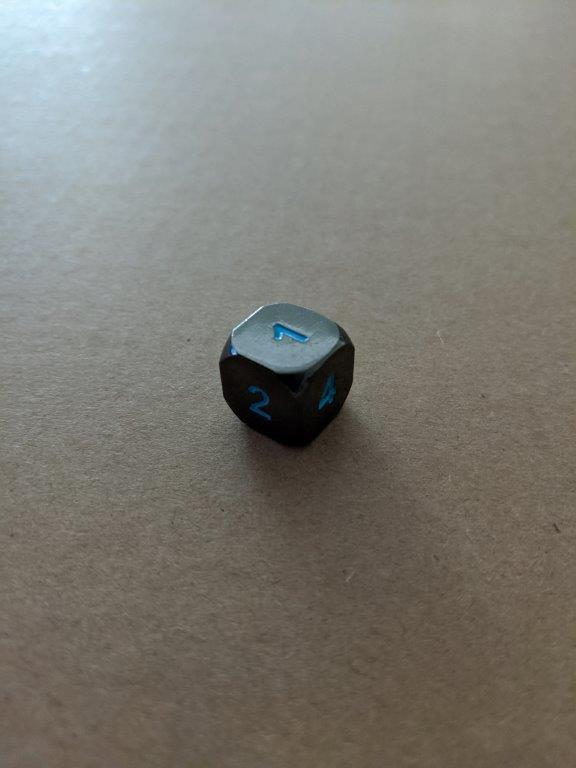d6-1: (219, 299, 357, 450)
